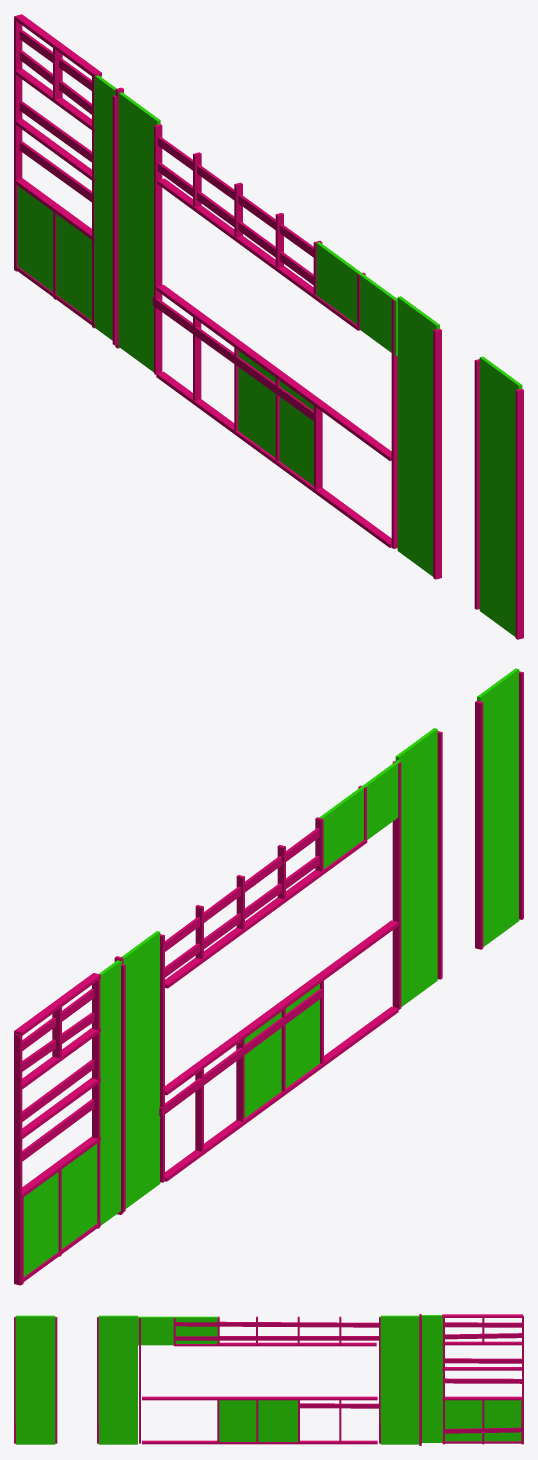
File: BH03_Wall_08_Break_B.fbx
3 views of the same model, one above another, from view 1: azimuth 30°, elevation 25°; view 2: azimuth 150°, elevation 25°; view 3: azimuth 270°, elevation 25° (orthographic). The views are drawn at different scales.
Parts seen in each view (by area): view 1: BH03_Wall_08_Break_B; view 2: BH03_Wall_08_Break_B; view 3: BH03_Wall_08_Break_B.
Part boxes in pixels (x1,y1,x2,y2): BH03_Wall_08_Break_B: (14, 14, 523, 639); BH03_Wall_08_Break_B: (14, 668, 523, 1285); BH03_Wall_08_Break_B: (14, 1314, 523, 1445).
Bounding box in the file's own units: 12.27 × 305 × 1083.
